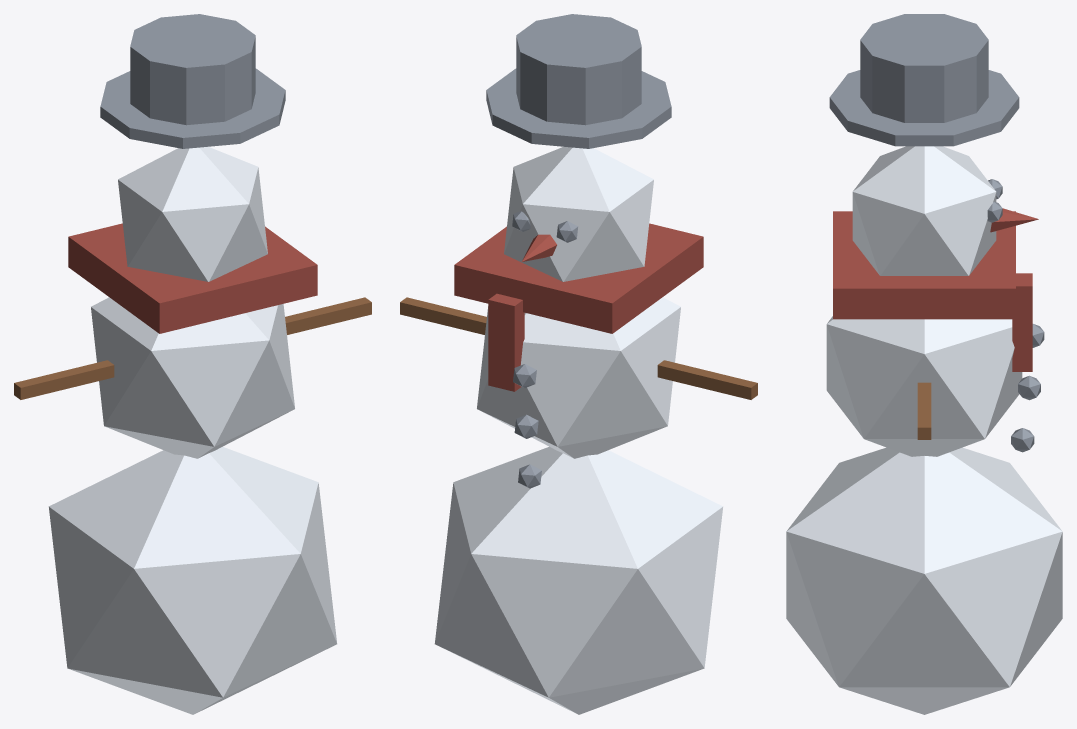
File: big_snowman.fbx
The picture shows the model from 3 angles, left to right: view 1: azimuth 30°, elevation 25°; view 2: azimuth 150°, elevation 25°; view 3: azimuth 270°, elevation 25°; orthographic projection.
Parts seen in each view (by area): view 1: big_snowman; view 2: big_snowman; view 3: big_snowman.
Part boxes in pixels (left/top/right/bottom): big_snowman: left=14, top=14, right=371, bottom=714; big_snowman: left=400, top=14, right=757, bottom=714; big_snowman: left=786, top=14, right=1062, bottom=714.
Size of the model in its own units: 654 by 1200 by 445.
